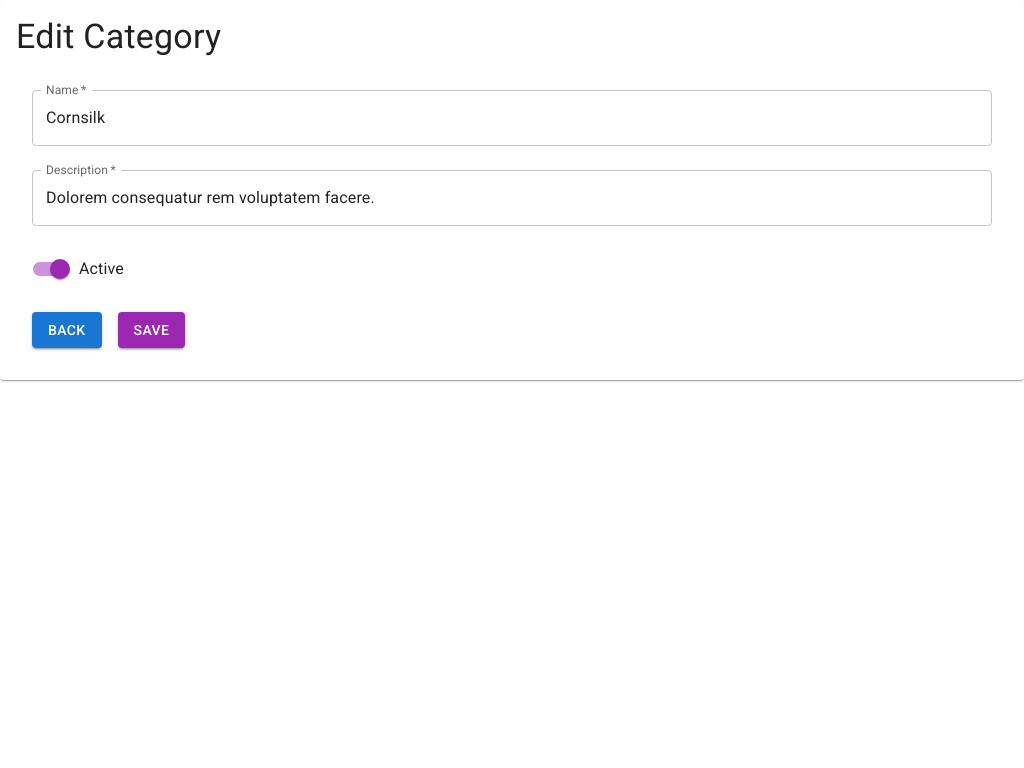
Scenario: Test EditCategory page › should handle submit error
Replace the text in the field with test id "name-input" with "Test Name" at (512, 118), box [32,90,992,146]
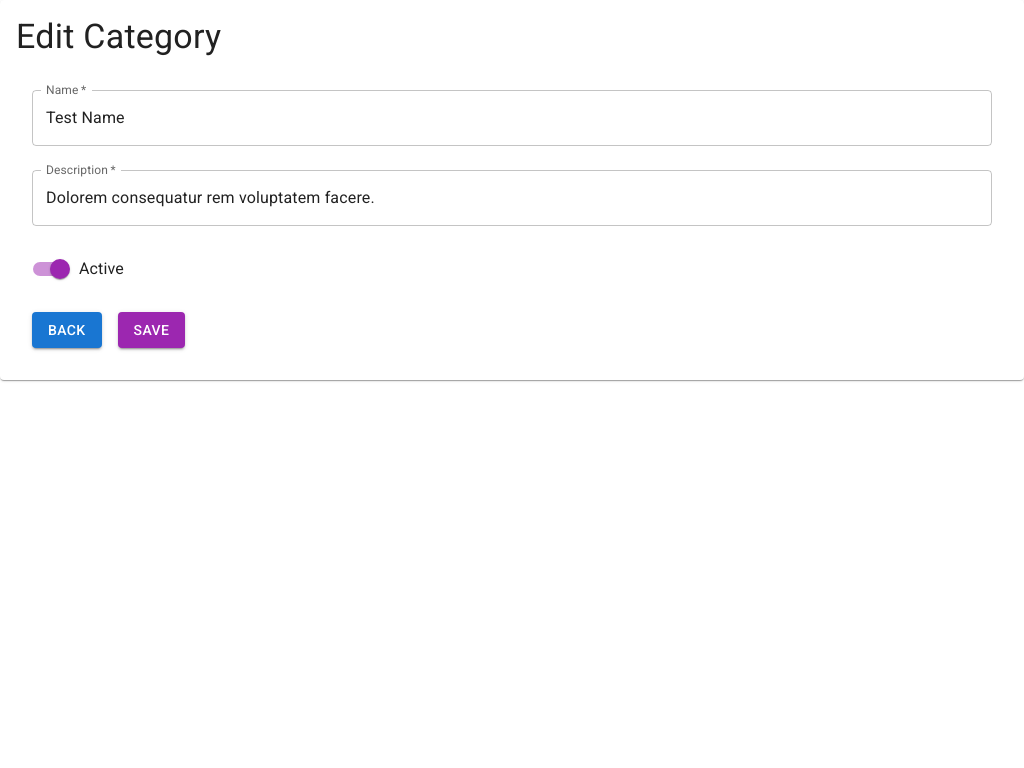
Replace the text in the field with test id "description-input" with "Test Description" at (512, 198), box [32,170,992,226]
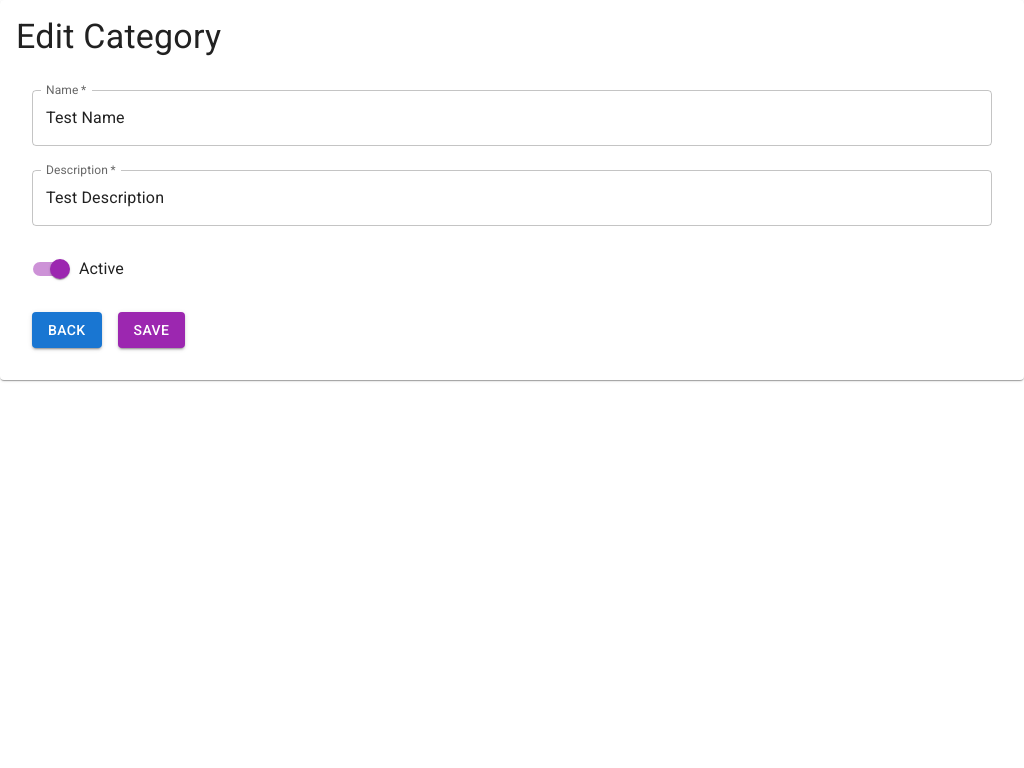
Click the element with test id "is-active-input" at (60, 269), box [50,259,70,279]
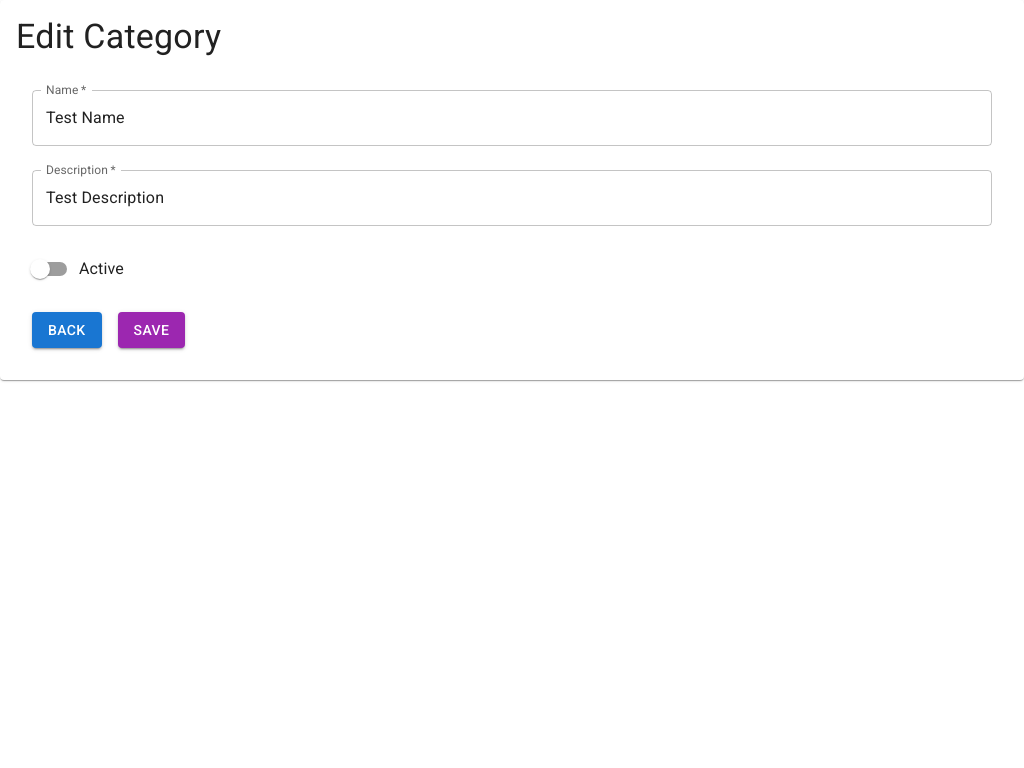
Click the button "Save" at (152, 330), box [118,312,185,348]
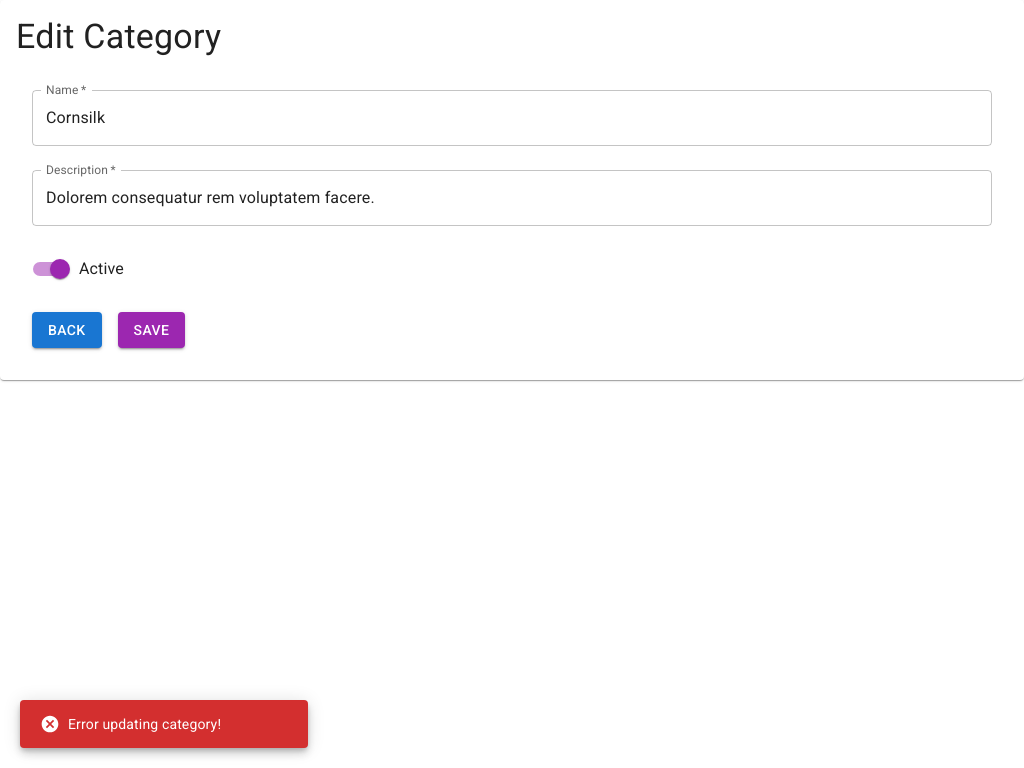
Result: the text "Error updating category!" is shown at [40,714,221,734]
